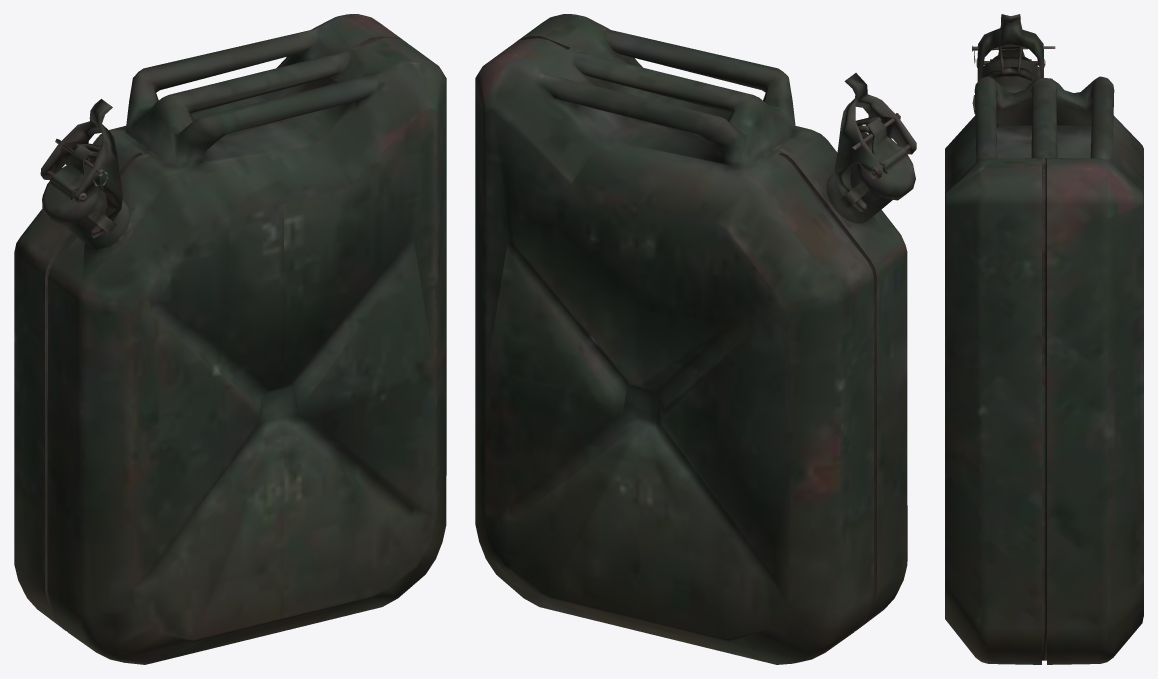
The model's file is jerrycan-low.glb.
3 renders of one model, left to right at view 1: azimuth 30°, elevation 25°; view 2: azimuth 150°, elevation 25°; view 3: azimuth 270°, elevation 25°, orthographic. The views are drawn at different scales.
Visible parts, largest first — view 1: metal_jerrycan_green_pin; view 2: metal_jerrycan_green_pin; view 3: metal_jerrycan_green_pin.
Part boxes in pixels (left/top/right/bottom): metal_jerrycan_green_pin: left=14, top=14, right=446, bottom=664; metal_jerrycan_green_pin: left=475, top=14, right=916, bottom=664; metal_jerrycan_green_pin: left=945, top=14, right=1143, bottom=664.
Bounding box in the file's own units: 0.36 × 0.4998 × 0.1709.
1 material, 1 textured.
